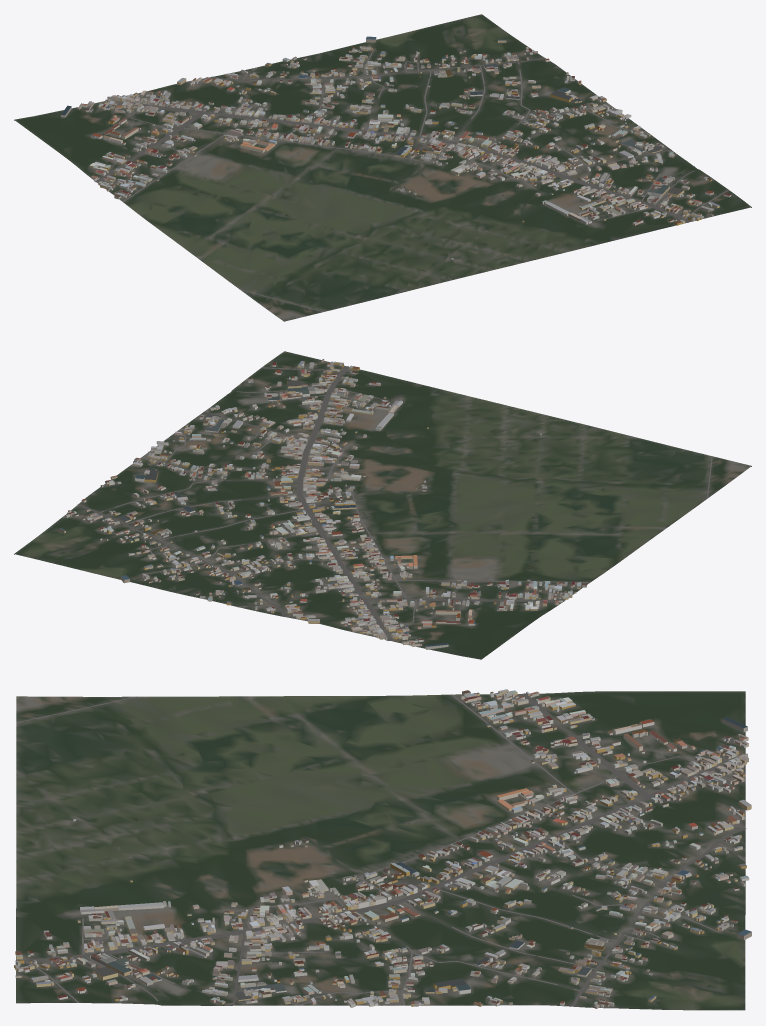
3 views of the same model, one above another, from view 1: azimuth 30°, elevation 25°; view 2: azimuth 150°, elevation 25°; view 3: azimuth 270°, elevation 25° (orthographic). The views are drawn at different scales.
Visible parts, largest first — view 1: ground, buildings, roads; view 2: ground, buildings, roads; view 3: ground, buildings, roads.
Boxes of the visible parts, bbox=[...] form: ground: bbox=[14, 14, 751, 321]; buildings: bbox=[61, 36, 731, 259]; roads: bbox=[95, 49, 728, 311]; ground: bbox=[14, 351, 751, 659]; buildings: bbox=[59, 359, 586, 649]; roads: bbox=[77, 366, 712, 640]; ground: bbox=[16, 691, 745, 1010]; buildings: bbox=[14, 689, 751, 1008]; roads: bbox=[15, 693, 746, 1006].
Size of the model in its own units: 1416 by 29.84 by 1417.
